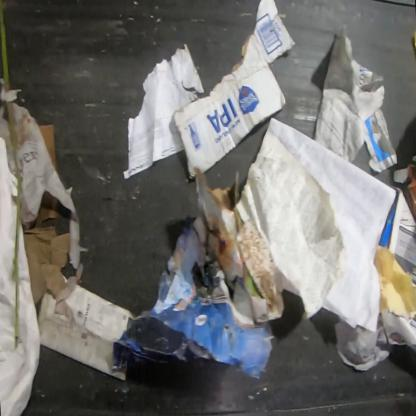cardboard: (174, 0, 295, 180), (195, 167, 286, 331), (23, 226, 71, 306), (39, 123, 57, 173), (36, 192, 58, 225)
soft_plastic: (393, 152, 415, 226)
